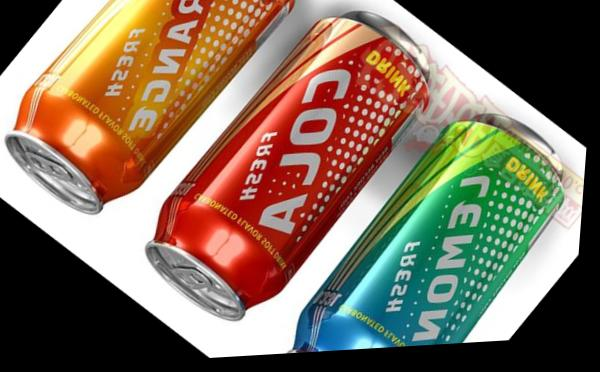metal: (151, 19, 428, 317), (295, 121, 564, 349), (13, 0, 291, 211)
